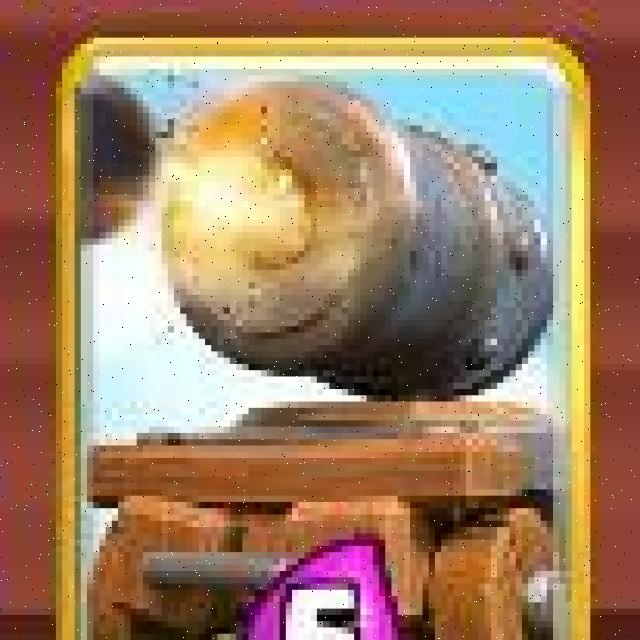Cannon_Cart: (58, 39, 593, 640)
